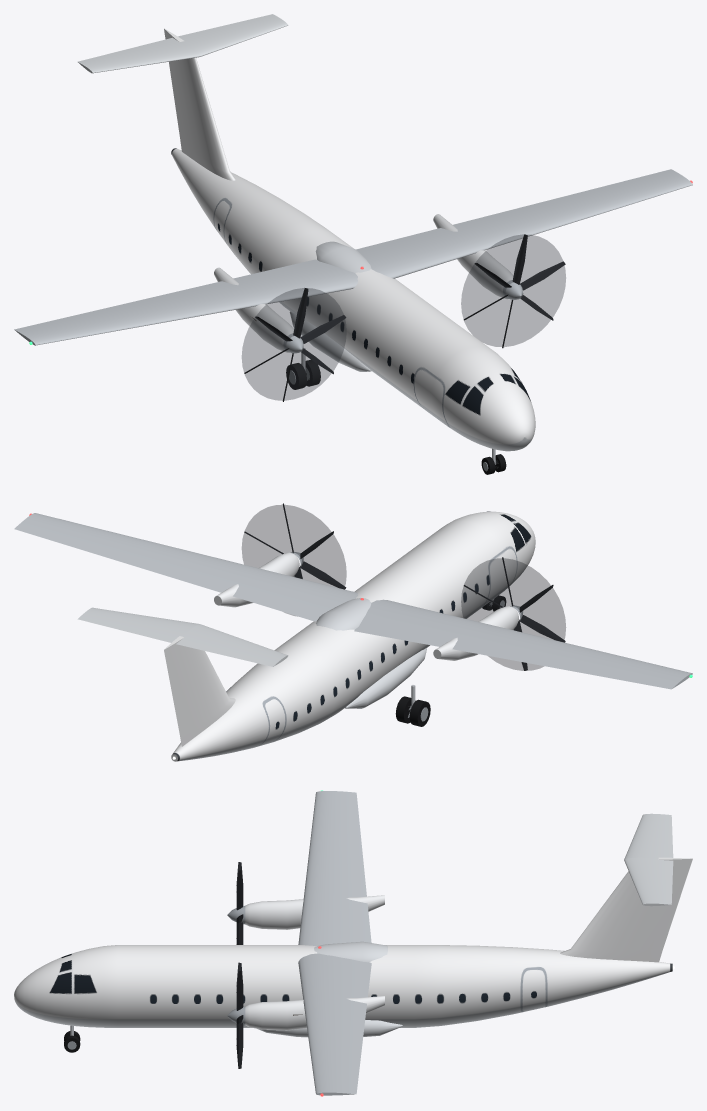
3 views of the same model, one above another, from view 1: azimuth 30°, elevation 25°; view 2: azimuth 150°, elevation 25°; view 3: azimuth 270°, elevation 25° (orthographic). The views are drawn at different scales.
Visible parts, largest first — view 1: body, gear; view 2: body, gear; view 3: body.
Boxes of the visible parts, x1,y1,x2,y2 form: body: (14,14,692,451); gear: (286,348,506,474); body: (14,503,692,761); gear: (395,595,506,726); body: (14,790,692,1096).
Bounding box in the file's own units: 24.79 × 7.27 × 23.37.
16 materials, 1 textured.
